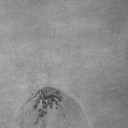iron sheet ash: (34, 86, 62, 112), (34, 104, 37, 110), (38, 114, 44, 117)
